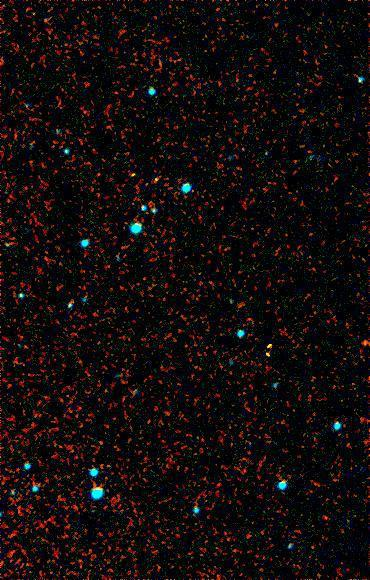star: (348, 324, 370, 354)
